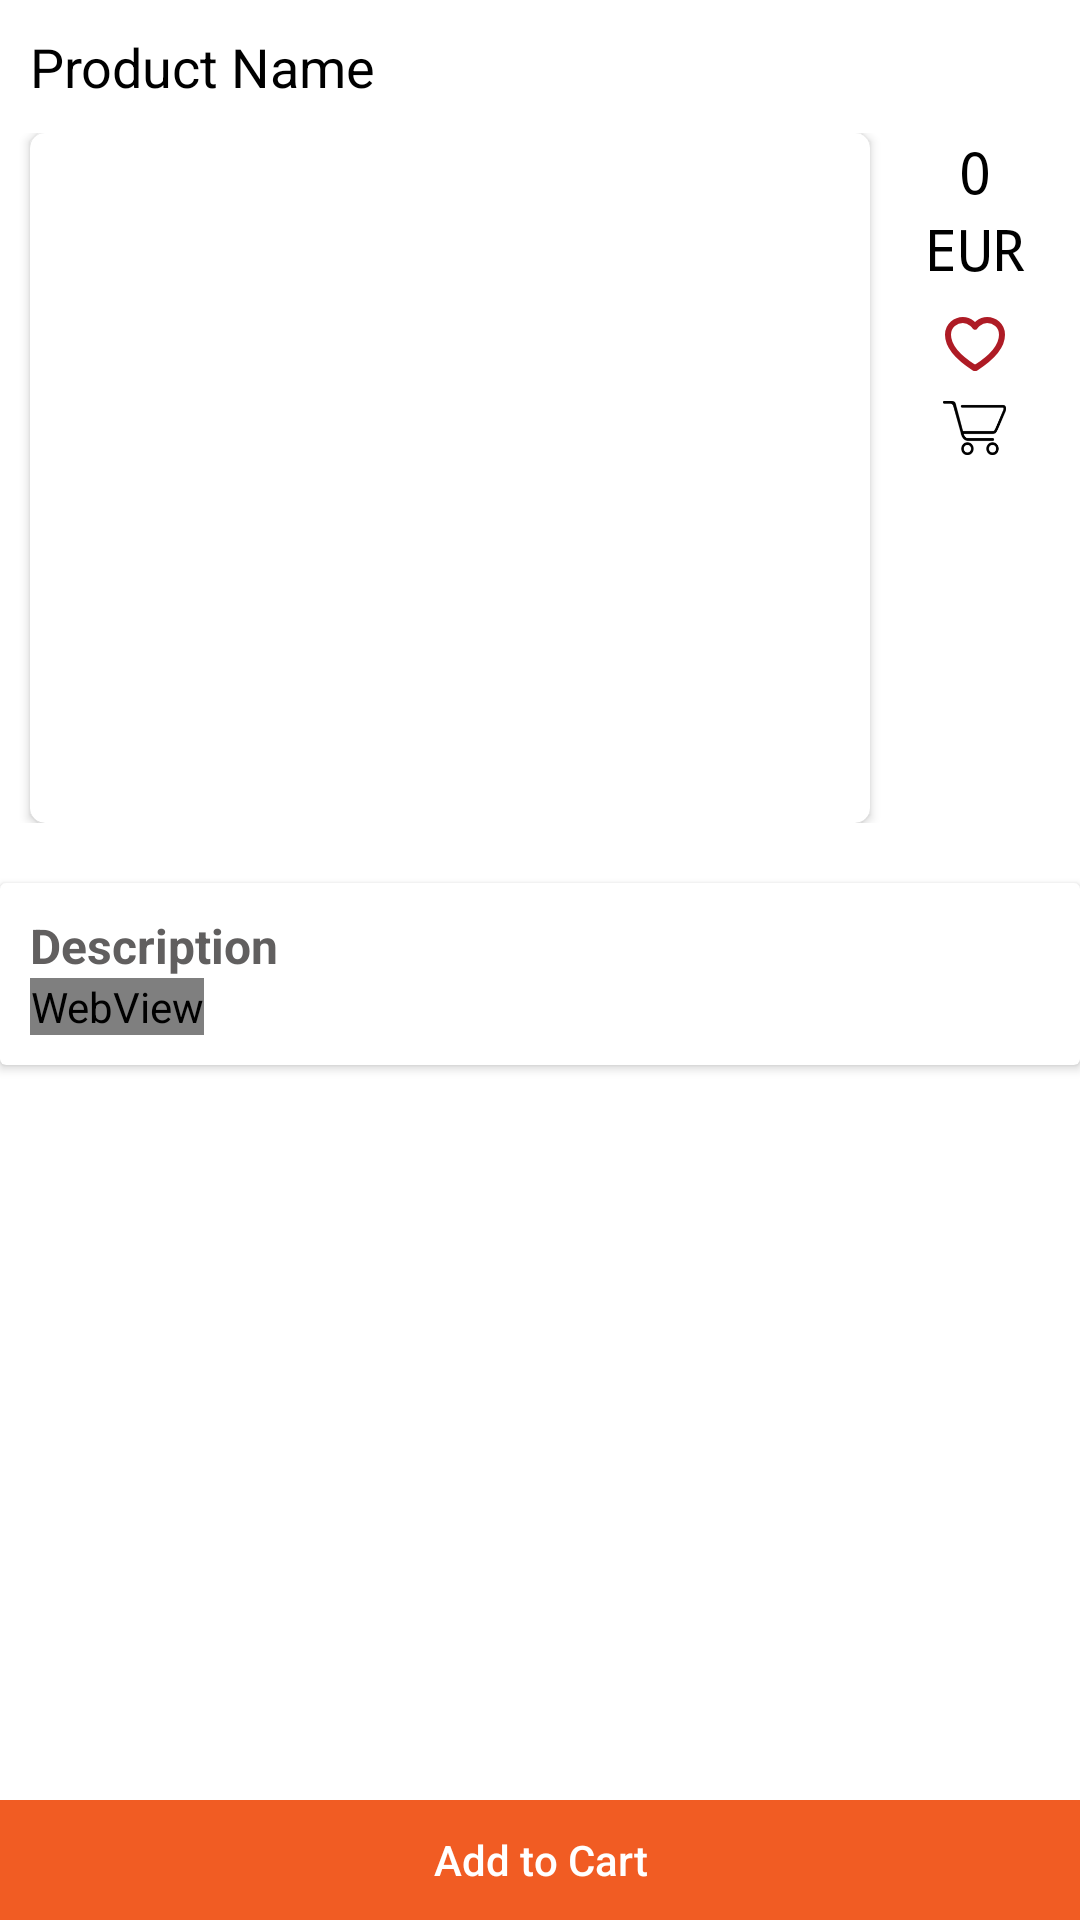

Point at icon controls on the screen. Image size 1080 × 1920, points as [x,y].
favarite: [975,344]
